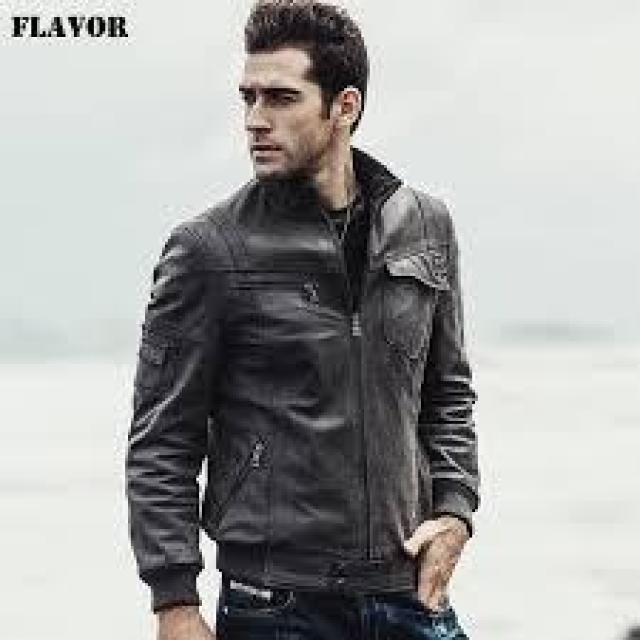jacket: (101, 152, 502, 605)
